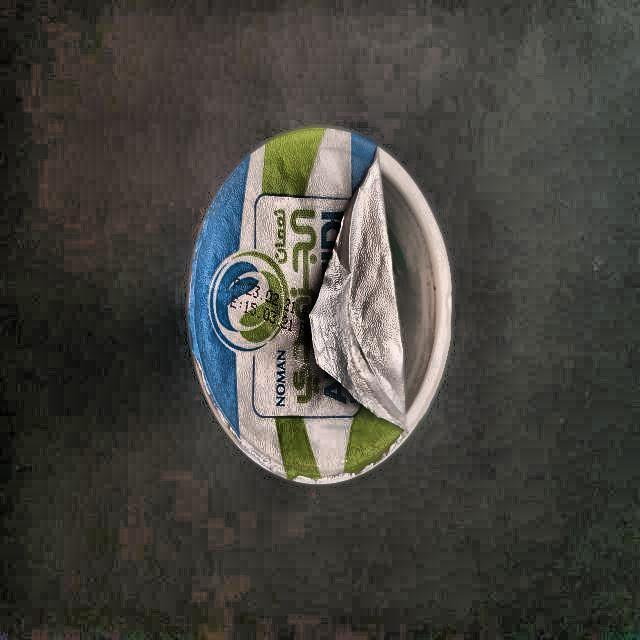plastic: (186, 128, 454, 489)
